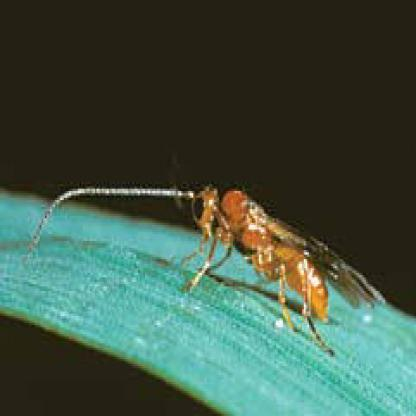sawfly: (47, 172, 392, 360)
